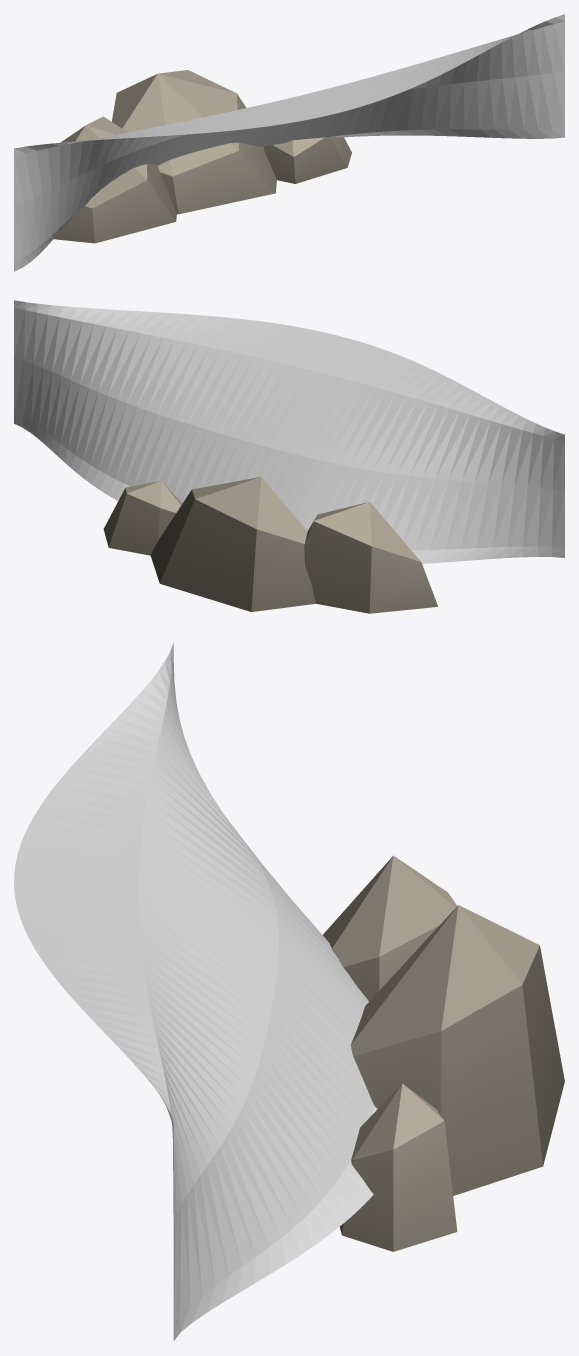
The model's file is RockyBank.fbx.
The picture shows the model from 3 angles, top to bottom: view 1: azimuth 30°, elevation 25°; view 2: azimuth 150°, elevation 25°; view 3: azimuth 270°, elevation 25°; orthographic projection. The views are drawn at different scales.
Visible parts, largest first — view 1: RockyBank, 岸岩.001, 岸岩, 岸岩.002; view 2: RockyBank, 岸岩.001, 岸岩, 岸岩.002; view 3: RockyBank, 岸岩.001, 岸岩.002, 岸岩.
Boxes of the visible parts, x1,y1,x2,y2 form: RockyBank: (14, 14, 564, 271); 岸岩.001: (111, 70, 276, 214); 岸岩: (53, 116, 176, 243); 岸岩.002: (263, 137, 351, 183); RockyBank: (14, 300, 564, 563); 岸岩.001: (150, 477, 315, 611); 岸岩: (304, 501, 437, 613); 岸岩.002: (103, 480, 182, 555); RockyBank: (14, 642, 377, 1340); 岸岩.001: (350, 905, 564, 1195); 岸岩.002: (340, 1083, 457, 1251); 岸岩: (323, 855, 456, 1001).
Size of the model in its own units: 64 by 16.3 by 31.08.
